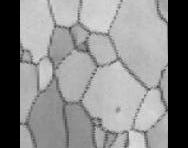good_void: (115, 105, 122, 112)
